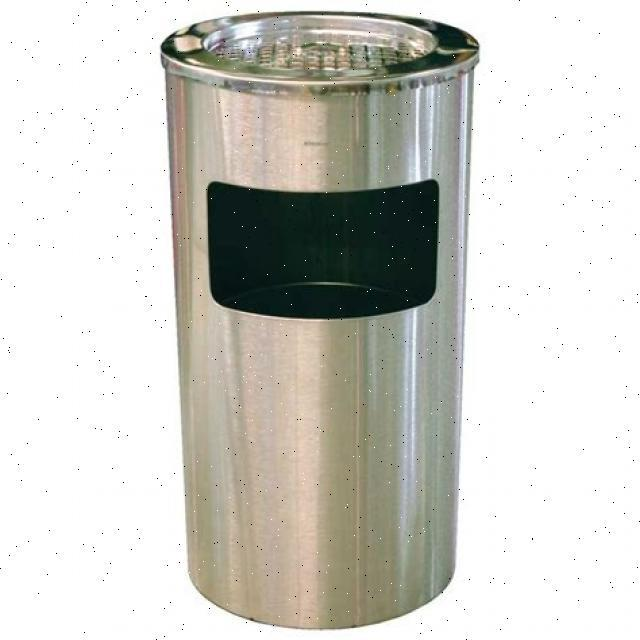garbage container: (137, 1, 492, 633)
